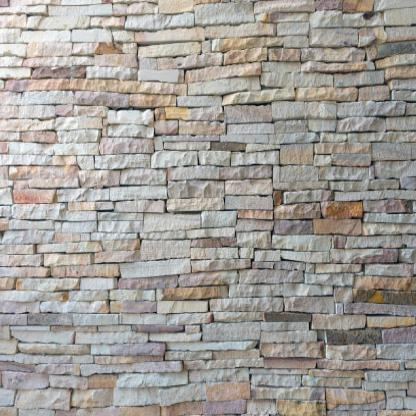Sedimentary_Sandstone: (139, 204, 207, 234), (260, 63, 335, 89), (335, 93, 406, 118), (89, 338, 167, 358), (109, 180, 170, 205), (182, 63, 264, 80), (224, 172, 273, 198), (267, 124, 322, 147), (332, 112, 388, 134), (73, 305, 123, 328), (150, 147, 199, 169), (56, 120, 104, 142)
